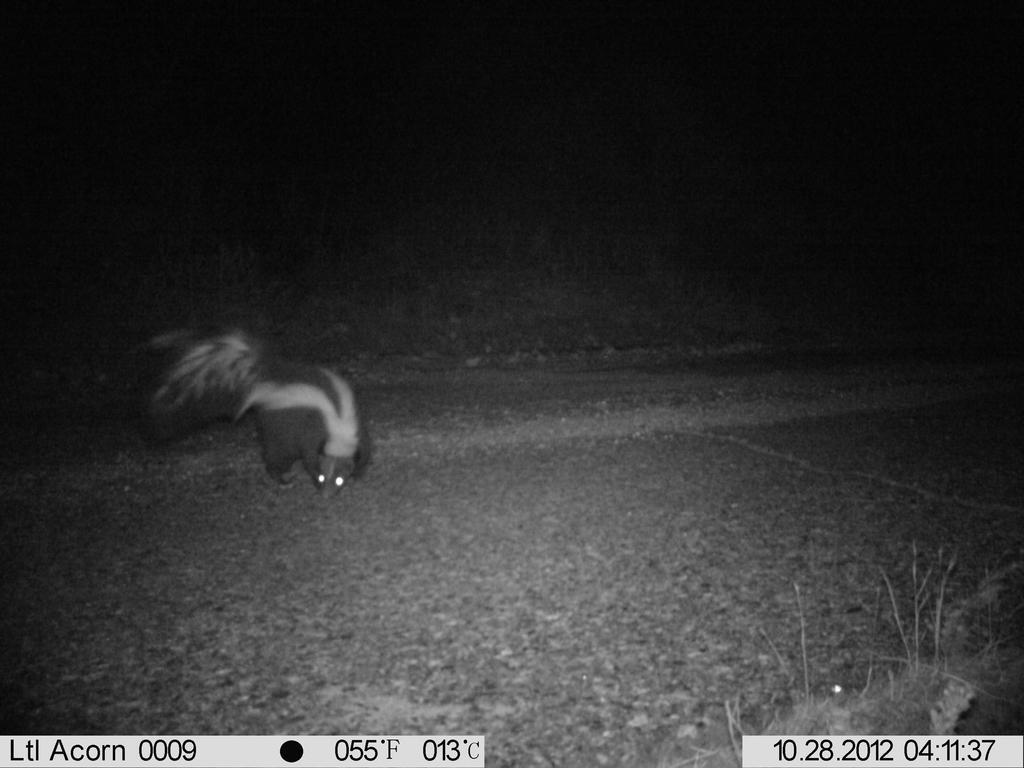skunk: (123, 306, 379, 513)
